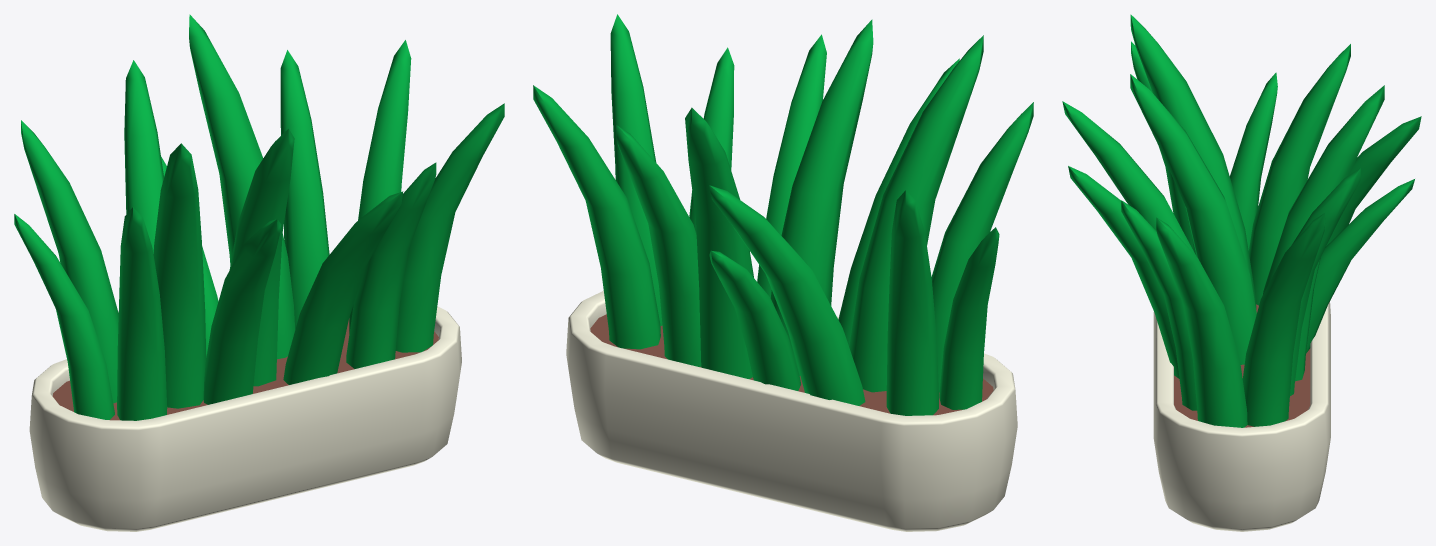
File: City_8_Plant_1.glb
3 views of the same model, side by side, from view 1: azimuth 30°, elevation 25°; view 2: azimuth 150°, elevation 25°; view 3: azimuth 270°, elevation 25° (orthographic). The views are drawn at different scales.
Visible parts, largest first — view 1: City_8_Plant_1; view 2: City_8_Plant_1; view 3: City_8_Plant_1.
Part boxes in pixels (bbox=[...]): City_8_Plant_1: bbox=[14, 14, 504, 531]; City_8_Plant_1: bbox=[533, 14, 1033, 531]; City_8_Plant_1: bbox=[1062, 14, 1421, 531].
Bounding box in the file's own units: 2.23 × 2.01 × 1.73.
1 material, 1 textured.
